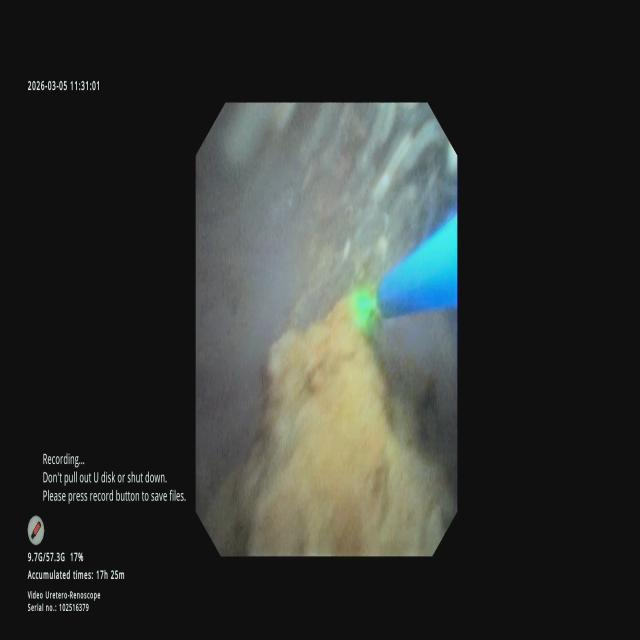laser_dot: (350, 288, 380, 335)
stone-new: (214, 292, 453, 555)
